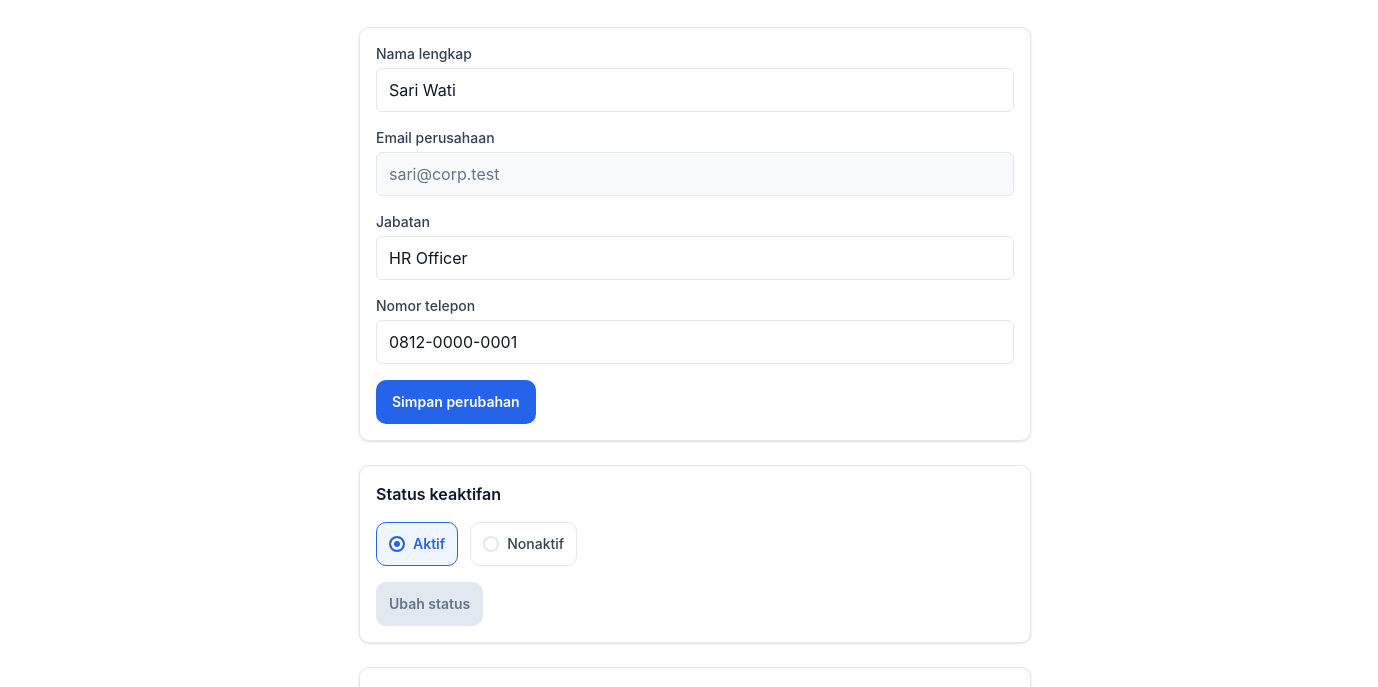
Test: HrEditPage › files an update_hr proposal with only the changed columns and lists it as pending
Replace the text in the field labelled "Nama lengkap" with "Sari Wati Utami" at (695, 90), box [376,68,1014,112]
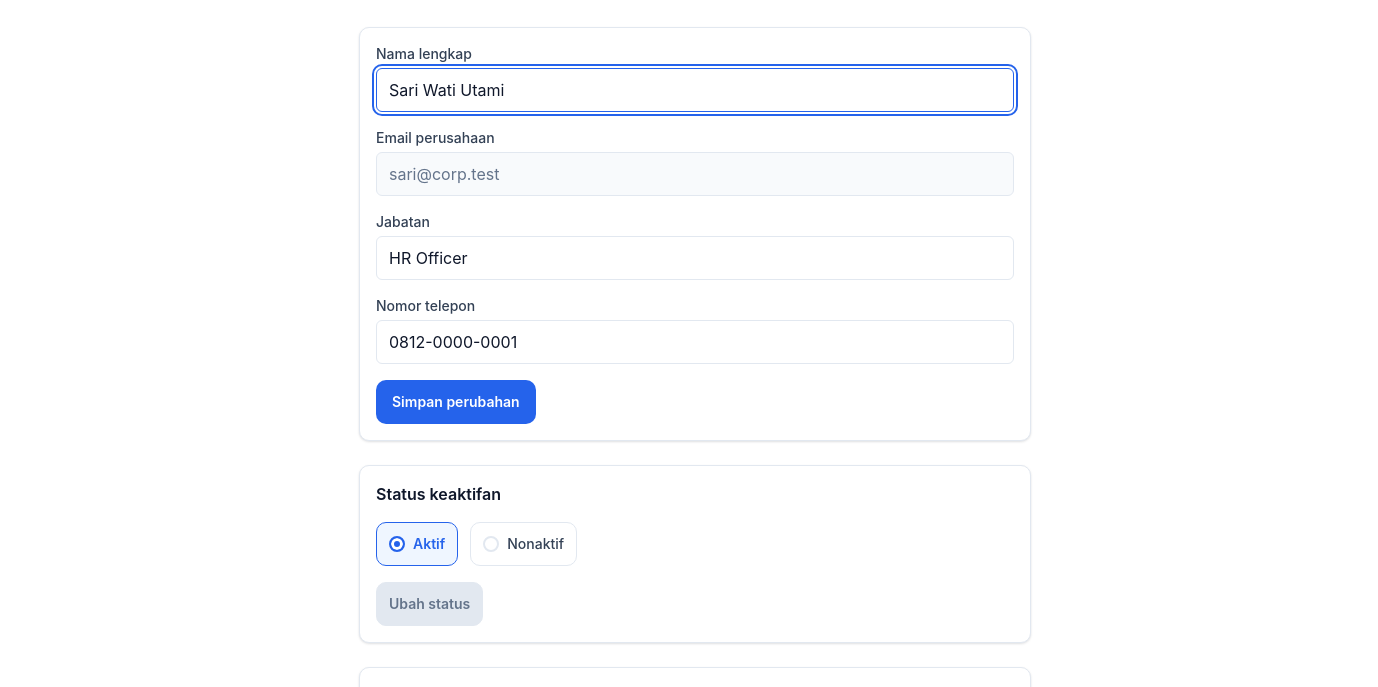
Click the button with test id "hr-edit-save".
click(456, 402)  # box [376,380,536,424]
(page scrolled)
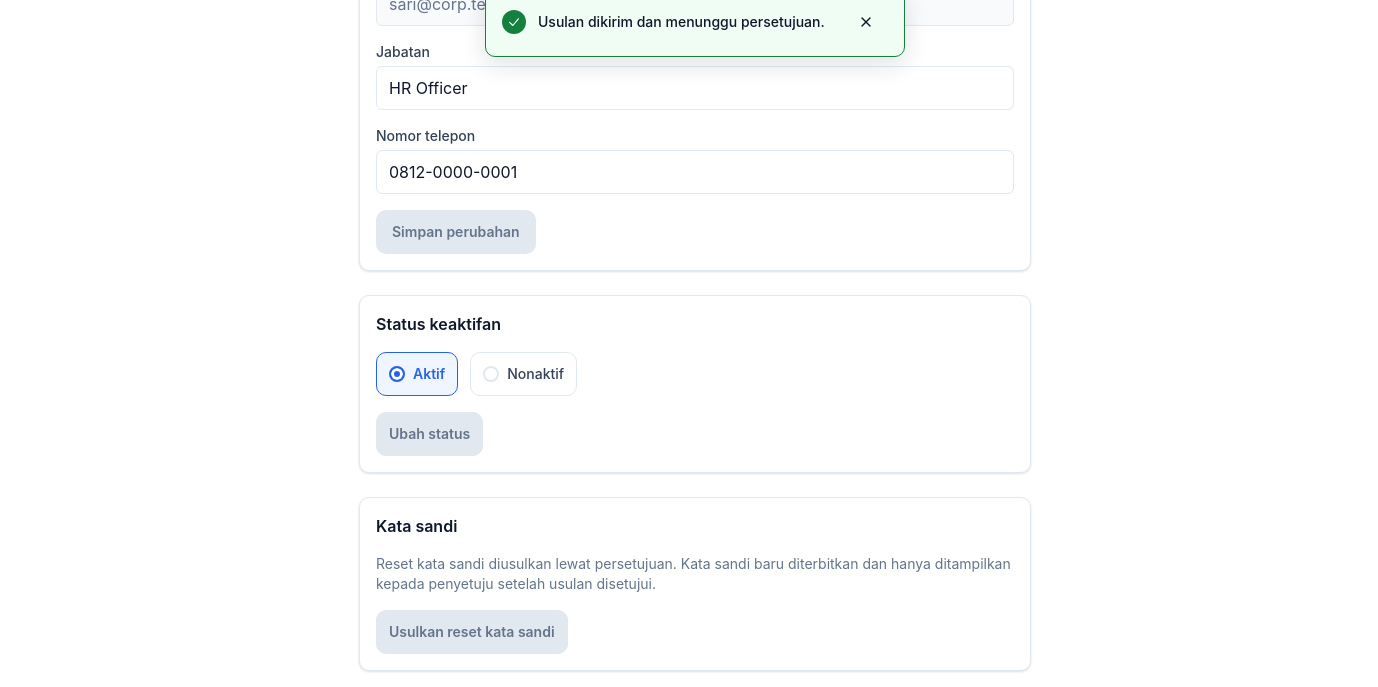
Expected: the button with test id "hr-edit-status-apply" is disabled, [376,412,483,456]
Result: the button with test id "hr-edit-save" is disabled at [376,210,536,254]
Result: the button with test id "hr-edit-reset" is disabled at [376,610,568,654]
